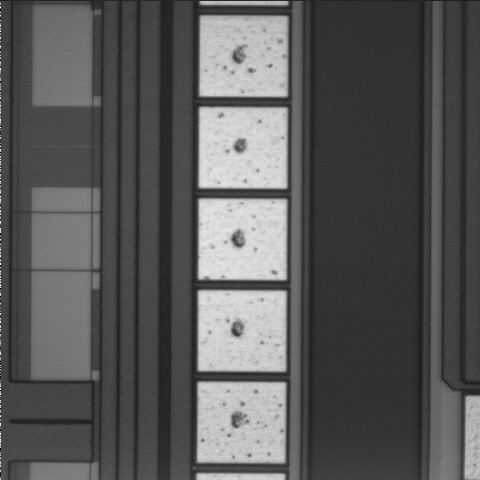pad: (199, 199, 287, 280), (197, 382, 285, 463), (200, 16, 287, 97), (199, 108, 287, 188), (198, 291, 286, 371)
